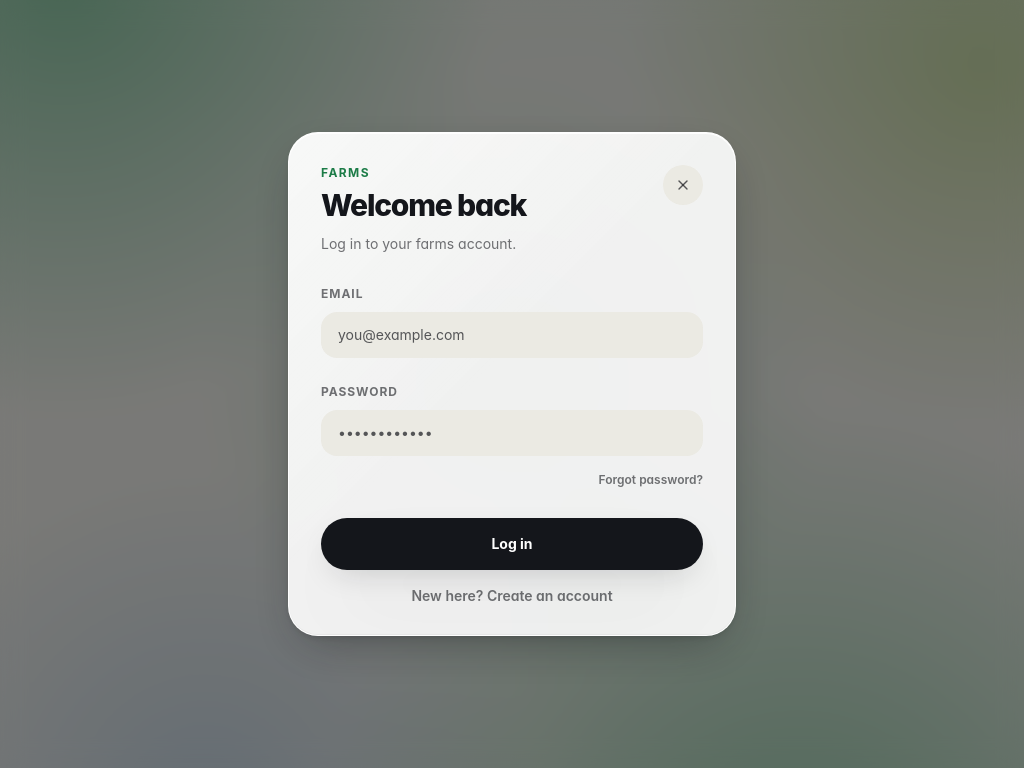
Scenario: AuthModal forgot-password flow › the back link inside the reset form returns to login without switching mode
Step 1. Click the button "Forgot password?" → (651, 480), box [599, 472, 703, 488]
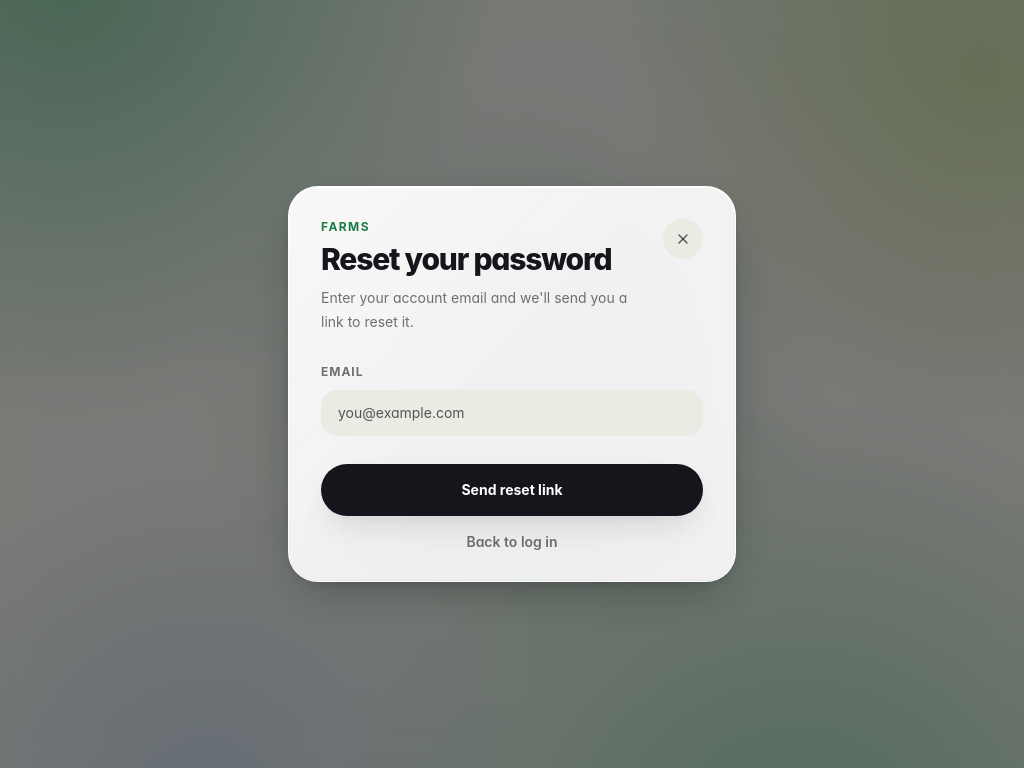
Step 2. Click the button "Back to log in" → (512, 542), box [321, 532, 703, 552]
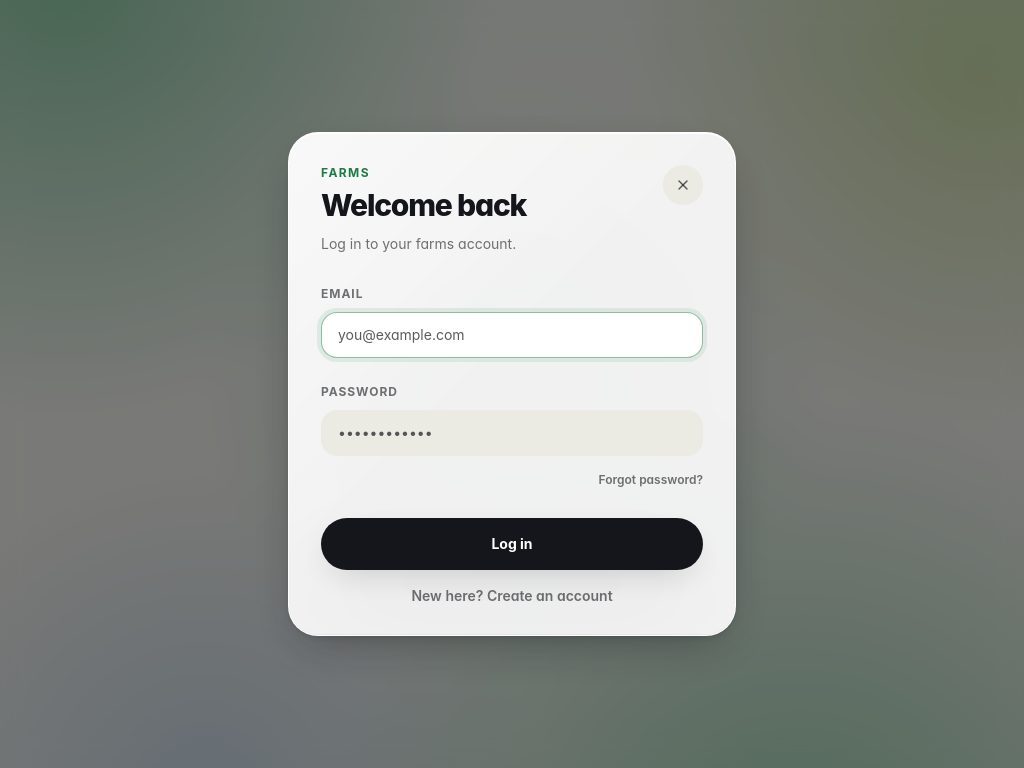
Expected: the heading "Welcome back" is shown, [321, 191, 526, 220]
